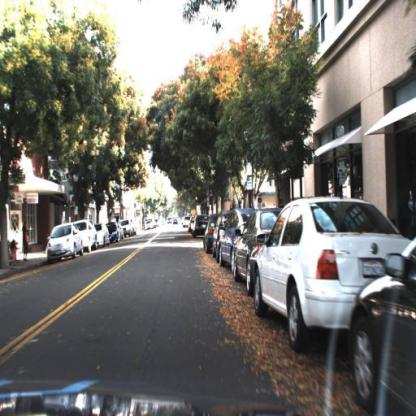car: (253, 195, 415, 355), (254, 187, 401, 363), (233, 206, 287, 296), (216, 204, 260, 268), (231, 209, 262, 295), (45, 221, 85, 266), (201, 213, 224, 255), (78, 217, 102, 257), (191, 212, 212, 241)
pedestrian: (22, 218, 33, 263)
